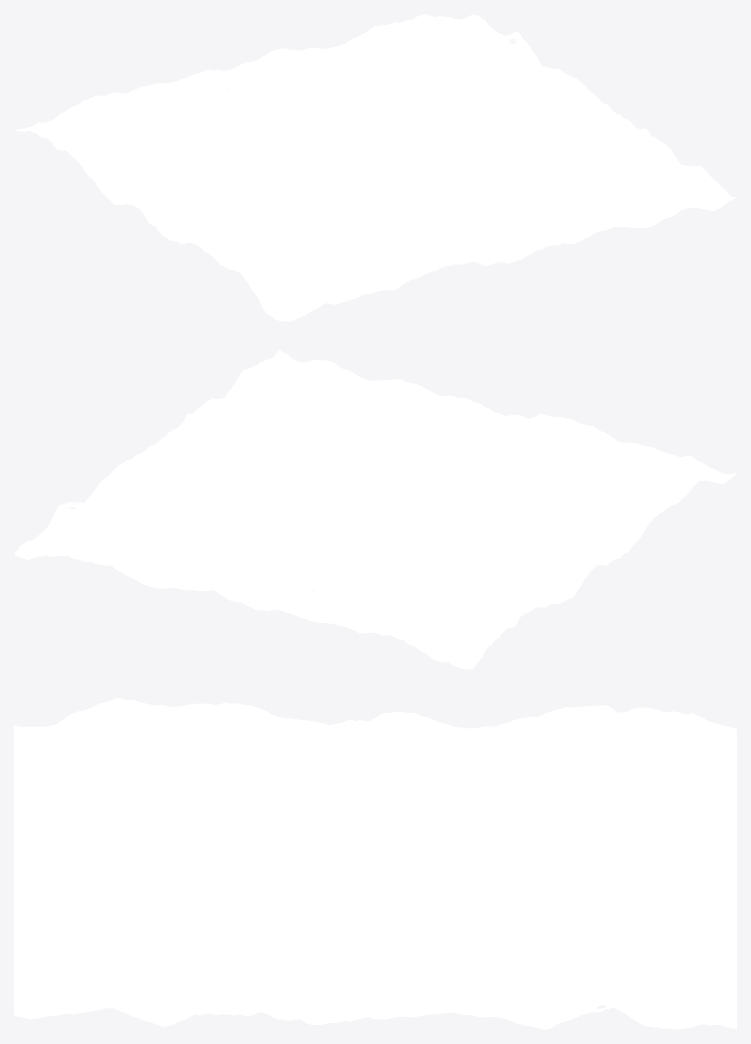
The model's file is moon surface-reduced.glb.
The picture shows the model from 3 angles, top to bottom: view 1: azimuth 30°, elevation 25°; view 2: azimuth 150°, elevation 25°; view 3: azimuth 270°, elevation 25°; orthographic projection. The views are drawn at different scales.
Parts seen in each view (by area): view 1: Cube; view 2: Cube; view 3: Cube.
Part boxes in pixels (<box>): Cube: <box>14,14,735,321</box>; Cube: <box>14,350,736,669</box>; Cube: <box>14,698,736,1029</box>.
Bounding box in the file's own units: 158204 × 10776 × 158204.
1 material, 1 textured.
